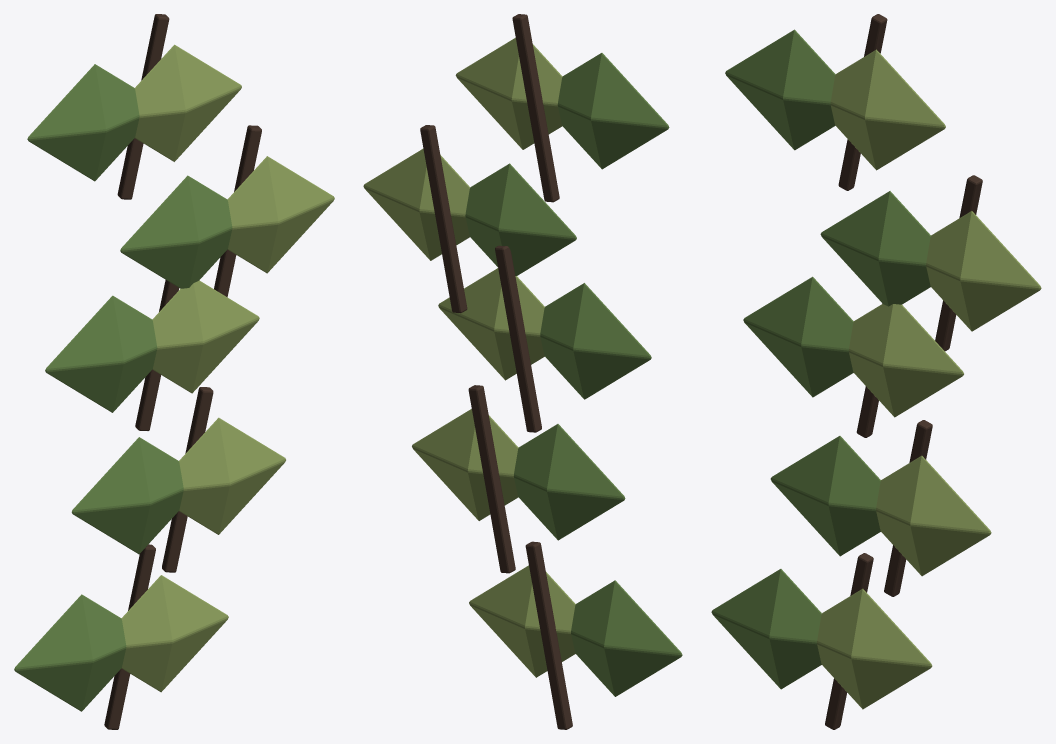
Rendered from overlay_ivy.glb.
3 views of the same model, side by side, from view 1: azimuth 30°, elevation 25°; view 2: azimuth 150°, elevation 25°; view 3: azimuth 330°, elevation 25° (orthographic). The views are drawn at different scales.
Visible parts, largest first — view 1: overlay_ivy__weathering; view 2: overlay_ivy__weathering; view 3: overlay_ivy__weathering.
Part boxes in pixels (x1,y1,x2,y2): overlay_ivy__weathering: (14,14,334,729); overlay_ivy__weathering: (363,14,682,729); overlay_ivy__weathering: (711,14,1041,729).
Bounding box in the file's own units: 0.7262 × 1.52 × 0.0966.
